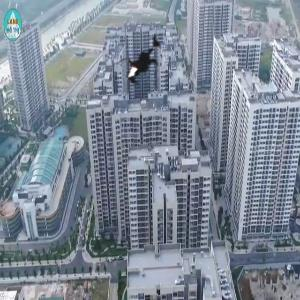drone: (99, 16, 184, 101)
